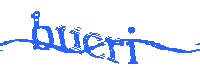b: (30, 11, 55, 53)
c: (84, 28, 107, 61)
i: (125, 27, 140, 67)
r: (106, 35, 125, 65)
u: (55, 23, 83, 57)
